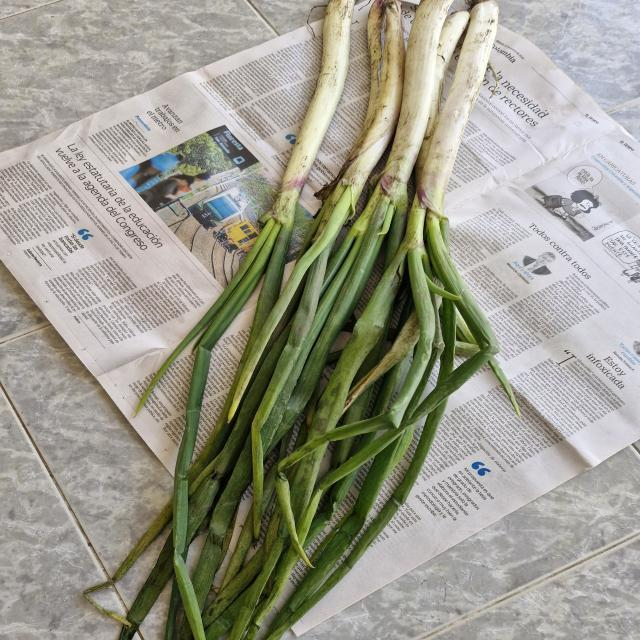green_onion: (256, 0, 503, 640), (138, 0, 359, 613)
